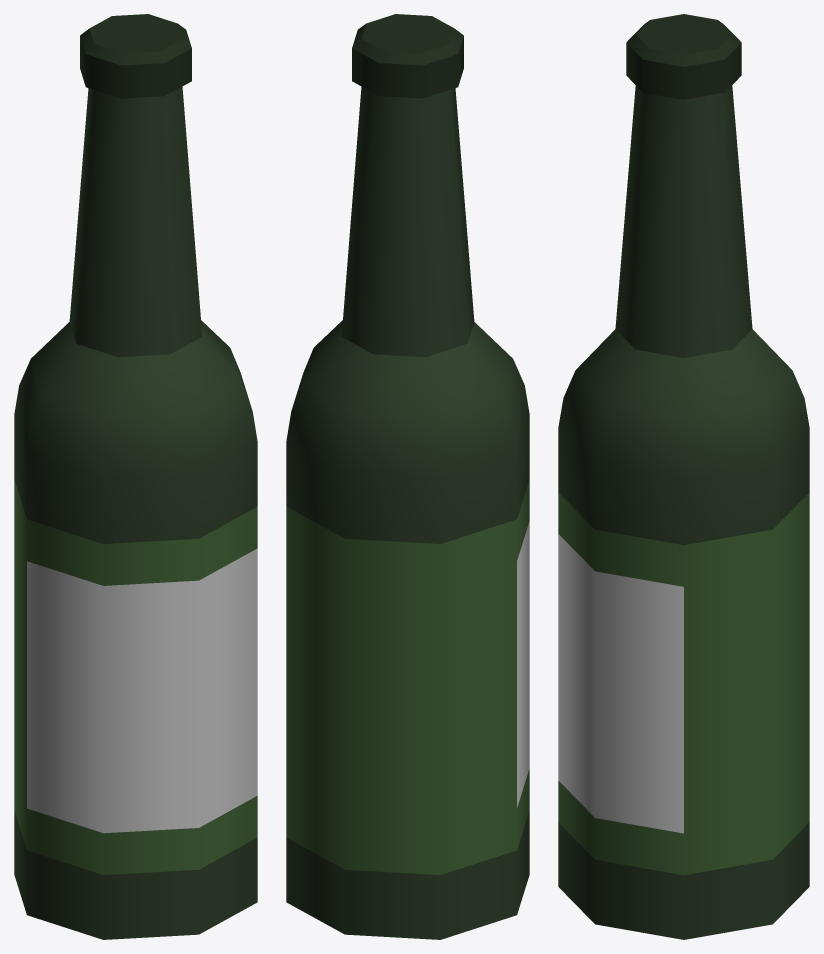
Rendered from BeerBottle_01.fbx.
3 views of the same model, side by side, from view 1: azimuth 30°, elevation 25°; view 2: azimuth 150°, elevation 25°; view 3: azimuth 270°, elevation 25° (orthographic).
Parts seen in each view (by area): view 1: BeerBottle_01, BeerBottle_01_Cap; view 2: BeerBottle_01, BeerBottle_01_Cap; view 3: BeerBottle_01, BeerBottle_01_Cap.
Boxes of the visible parts, <box> form: BeerBottle_01: <box>14,86,257,939</box>; BeerBottle_01_Cap: <box>80,14,191,98</box>; BeerBottle_01: <box>286,86,529,939</box>; BeerBottle_01_Cap: <box>352,14,463,98</box>; BeerBottle_01: <box>558,85,809,939</box>; BeerBottle_01_Cap: <box>626,14,741,99</box>.
Size of the model in its own units: 0.099 by 0.3708 by 0.099.
